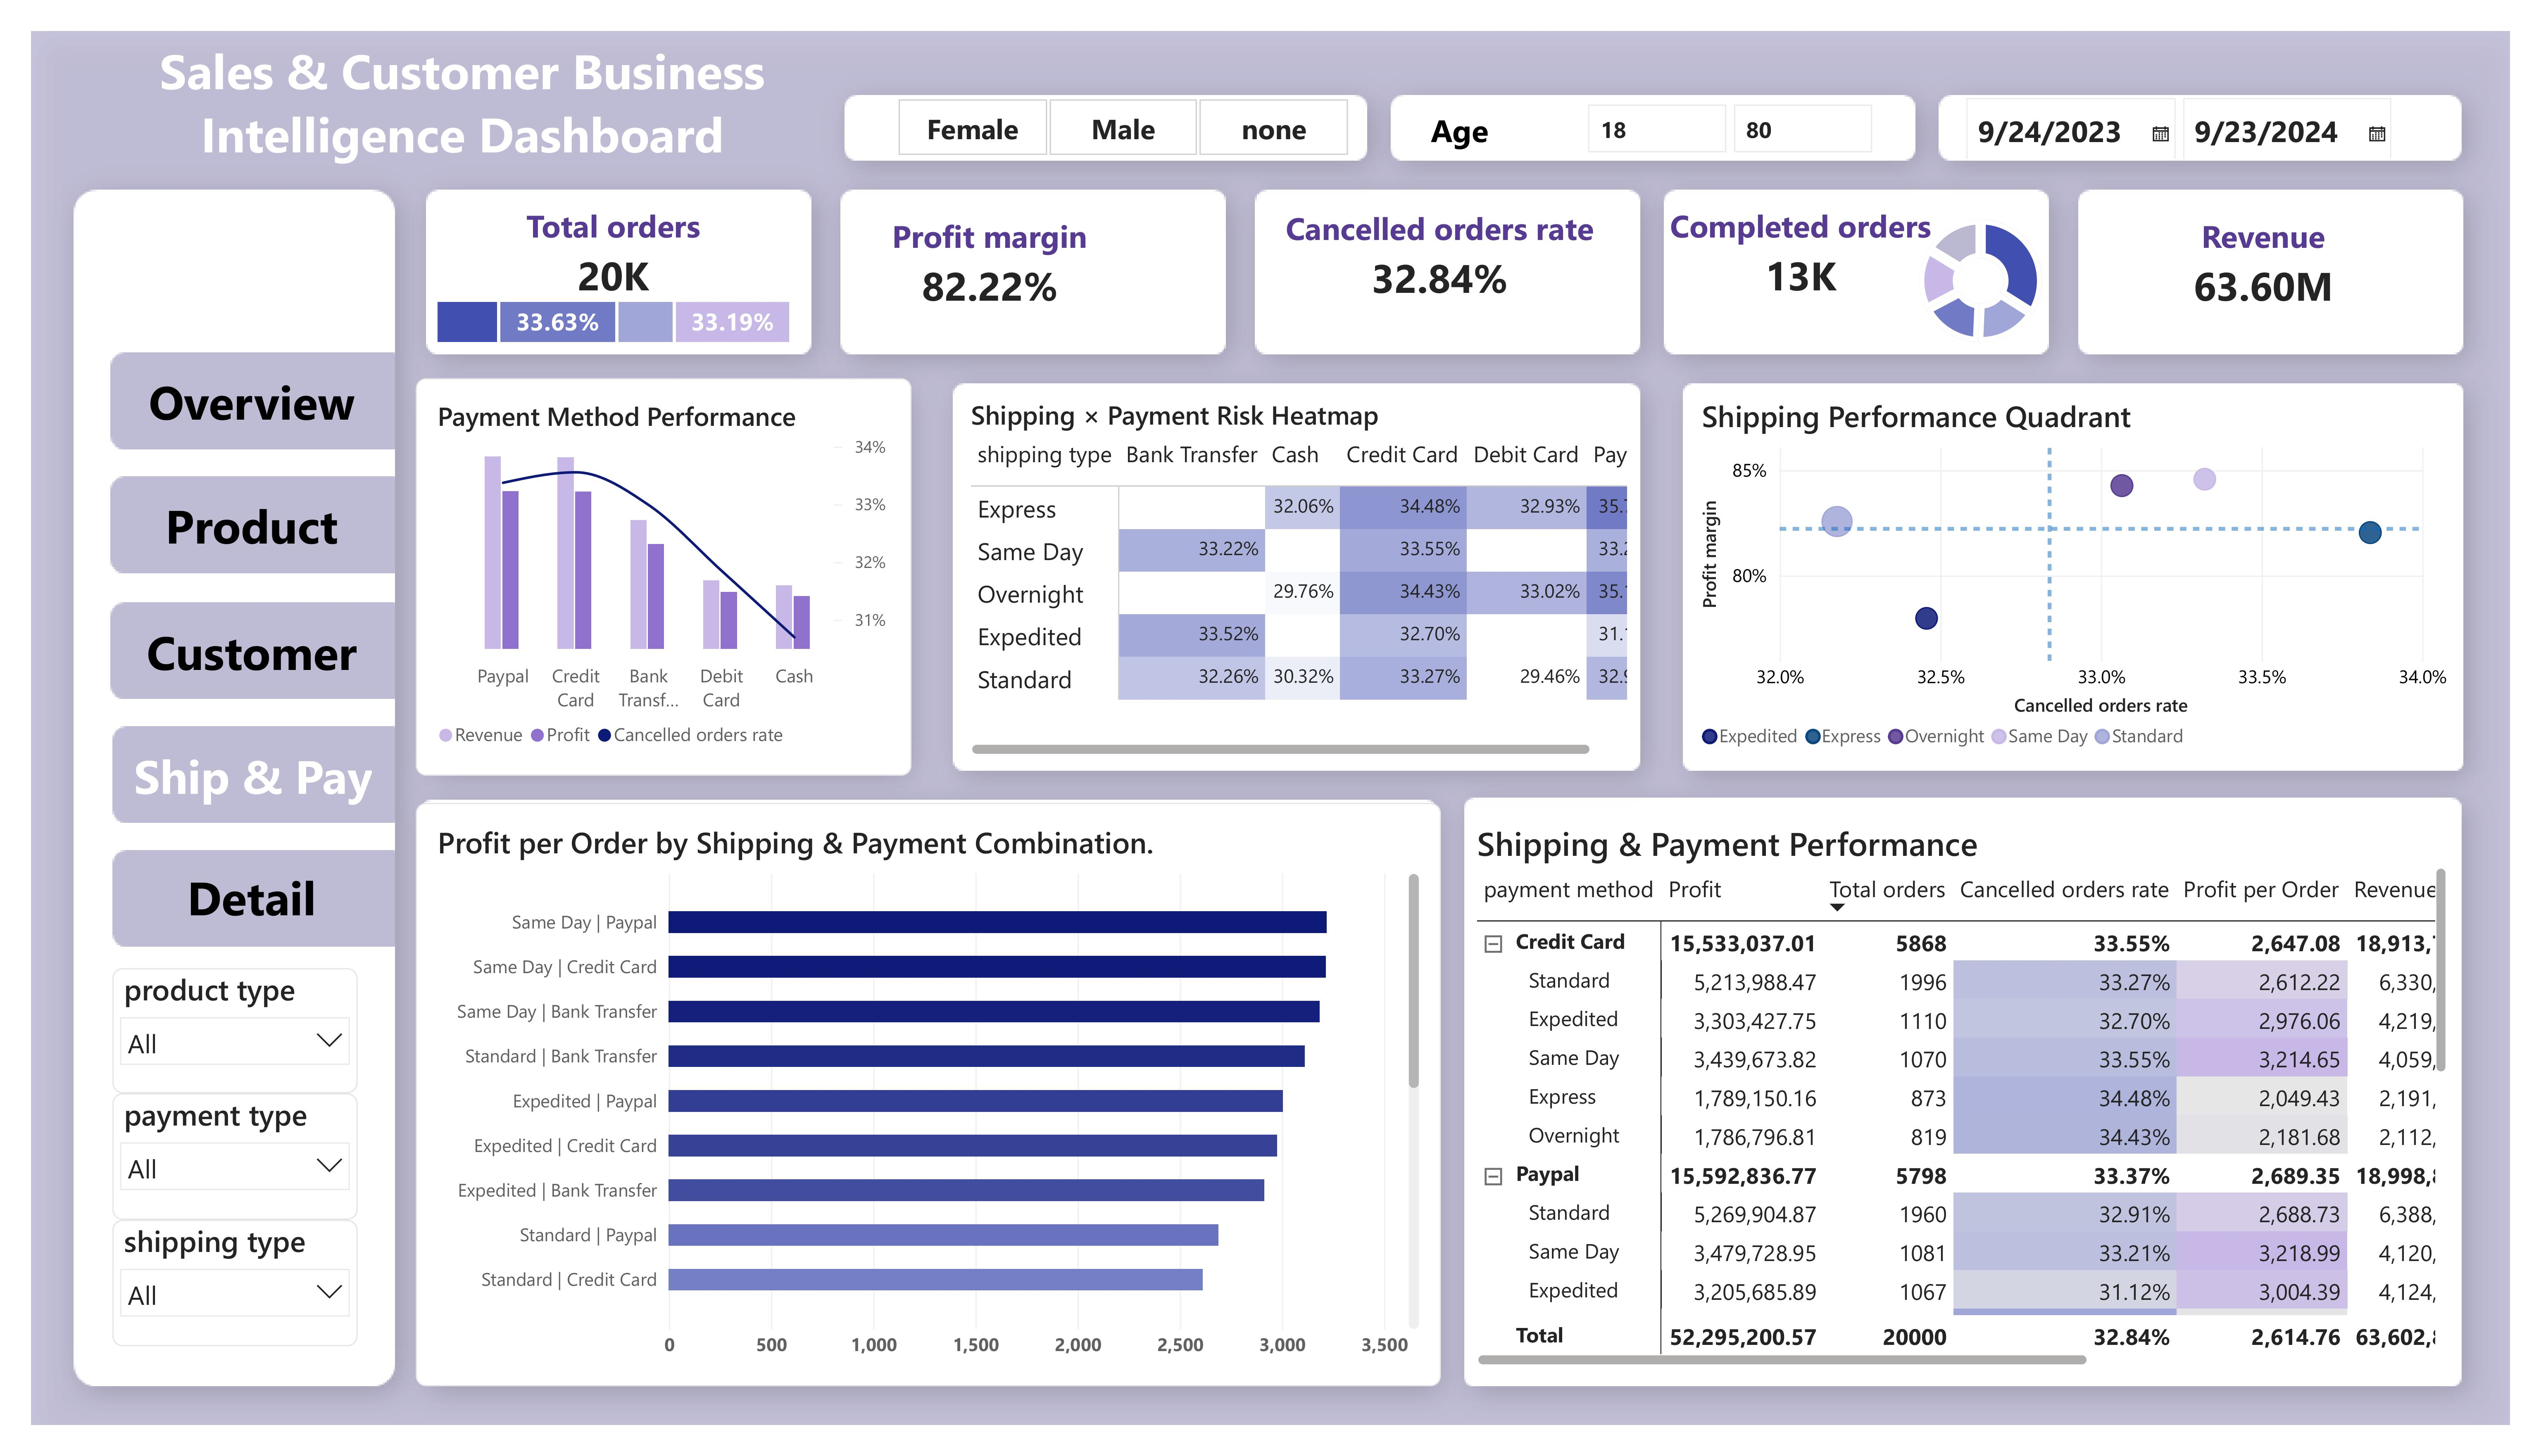

The dashboard page shown, as its layout file describes it:
{"tool":"powerbi","page":{"name":"Shipping & Payment","canvas":[1920,1080],"ordinal":3},"visuals":[{"type":"cardVisual","fields":{"Data":["*Measure.Total orders"]},"box":[298.6,115.8,304,110.4],"z":1000},{"type":"cardVisual","fields":{"Data":["*Measure.Profit margin"]},"box":[612.2,134.3,260.6,90.5],"z":2000},{"type":"cardVisual","fields":{"Data":["*Measure.completed orders"]},"box":[1243.6,125.6,253.4,90.5],"z":3000},{"type":"clusteredBarChart","title":"Profit per Order by Shipping & Payment Combination.","fields":{"Category":["fact_order.Ship-Pay Combination"],"Y":["*Measure.Profit per Order"]},"box":[298.3,598.3,793.6,451.7],"z":5000},{"type":"pivotTable","title":"Shipping × Payment Risk Heatmap","fields":{"Columns":["dim_payment.payment method"],"Rows":["dim_shipping.shipping type"],"Values":["*Measure.Cancelled orders rate"]},"box":[711.6,268.6,540.7,308.7],"z":7000},{"type":"cardVisual","fields":{"Data":["*Measure.revenue1"]},"box":[1595.9,134.3,266,90.5],"z":8000},{"type":"actionButton","box":[76,255.2,190,63.3],"z":9000},{"type":"actionButton","box":[76,351.1,190,63.3],"z":10000},{"type":"actionButton","box":[76,448.8,190,63.3],"z":11000},{"type":"actionButton","box":[62.8,544.2,218,64.5],"z":12000},{"type":"slicer","fields":{"Values":["dim_calendar.Date"]},"box":[1491.2,47.1,371,52],"z":13000},{"type":"slicer","fields":{"Values":["dim_product.product type"]},"box":[63.3,725.7,190,97.7],"z":14000},{"type":"slicer","fields":{"Values":["dim_payment.payment type"]},"box":[63.3,823.4,190,97.7],"z":15000},{"type":"slicer","fields":{"Values":["dim_shipping.shipping type"]},"box":[63.3,921.1,190,97.7],"z":16000},{"type":"scatterChart","title":"Shipping Performance Quadrant","fields":{"Series":["dim_shipping.shipping type"],"Size":["*Measure.Total orders"],"X":["*Measure.Cancelled orders rate"],"Y":["*Measure.Profit margin"]},"box":[1278.5,268.6,608.7,308.7],"z":17000},{"type":"hundredPercentStackedBarChart","fields":{"Series":["dim_shipping.shipping cost level"],"Y":["*Measure.M_count orders"]},"box":[298.6,148.4,304,150.2],"z":18000},{"type":"donutChart","fields":{"Category":["dim_shipping.shipping type"],"Y":["*Measure.completed orders"]},"box":[1395.4,120.3,229.8,148.4],"z":19000},{"type":"slicer","fields":{"Values":["dim_customer.age"]},"box":[1198,52.5,244.3,41.6],"z":21000},{"type":"textbox","box":[1084,59.7,74.2,34.4],"z":22000},{"type":"slicer","fields":{"Values":["dim_customer.gender"]},"box":[651.5,50.7,387.3,47],"z":23000},{"type":"pivotTable","title":"Shipping & Payment Performance","fields":{"Rows":["dim_payment.payment method","dim_shipping.shipping type"],"Values":["*Measure.M_profit","Count(fact_order.order id)","*Measure.Cancelled orders rate","*Measure.Profit per Order","*Measure.Revenue","*Measure.Profit margin","*Measure.Cancelled orders rate"]},"box":[1104.1,598.3,783.1,451.7],"z":24000},{"type":"actionButton","box":[76,638.8,190,63.3],"z":25000},{"type":"cardVisual","fields":{"Data":["*Measure.cancelled orders rate"]},"box":[930.2,128.5,322.1,90.5],"z":26000},{"type":"lineClusteredColumnComboChart","title":"Payment Method Performance","fields":{"Category":["dim_payment.payment method"],"Y":["*Measure.Revenue","*Measure.Profit"],"Y2":["*Measure.Cancelled orders rate"]},"box":[298.3,268.6,383.7,308.7],"z":26001},{"type":"textbox","box":[41.9,5.2,584.6,106],"z":26002}]}

Visuals, with their boxes on the page's 1920x1080 design canvas (x1, y1, x2, y2). These are canvas units, not pixel positions in the 2541x1456 screenshot, which may show the page scaled, cropped or inside an application window:
cardVisual - *Measure.Total orders: <box>299,116,603,226</box>
cardVisual - *Measure.Profit margin: <box>612,134,873,225</box>
cardVisual - *Measure.completed orders: <box>1244,126,1497,216</box>
"Profit per Order by Shipping & Payment Combination." clusteredBarChart: <box>298,598,1092,1050</box>
"Shipping × Payment Risk Heatmap" pivotTable: <box>712,269,1252,577</box>
cardVisual - *Measure.revenue1: <box>1596,134,1862,225</box>
actionButton: <box>76,255,266,318</box>
actionButton: <box>76,351,266,414</box>
actionButton: <box>76,449,266,512</box>
actionButton: <box>63,544,281,609</box>
slicer - dim_calendar.Date: <box>1491,47,1862,99</box>
slicer - dim_product.product type: <box>63,726,253,823</box>
slicer - dim_payment.payment type: <box>63,823,253,921</box>
slicer - dim_shipping.shipping type: <box>63,921,253,1019</box>
"Shipping Performance Quadrant" scatterChart: <box>1278,269,1887,577</box>
hundredPercentStackedBarChart - dim_shipping.shipping cost level x *Measure.M_count orders: <box>299,148,603,299</box>
donutChart - dim_shipping.shipping type x *Measure.completed orders: <box>1395,120,1625,269</box>
slicer - dim_customer.age: <box>1198,52,1442,94</box>
textbox: <box>1084,60,1158,94</box>
slicer - dim_customer.gender: <box>652,51,1039,98</box>
"Shipping & Payment Performance" pivotTable: <box>1104,598,1887,1050</box>
actionButton: <box>76,639,266,702</box>
cardVisual - *Measure.cancelled orders rate: <box>930,128,1252,219</box>
"Payment Method Performance" lineClusteredColumnComboChart: <box>298,269,682,577</box>
textbox: <box>42,5,626,111</box>
